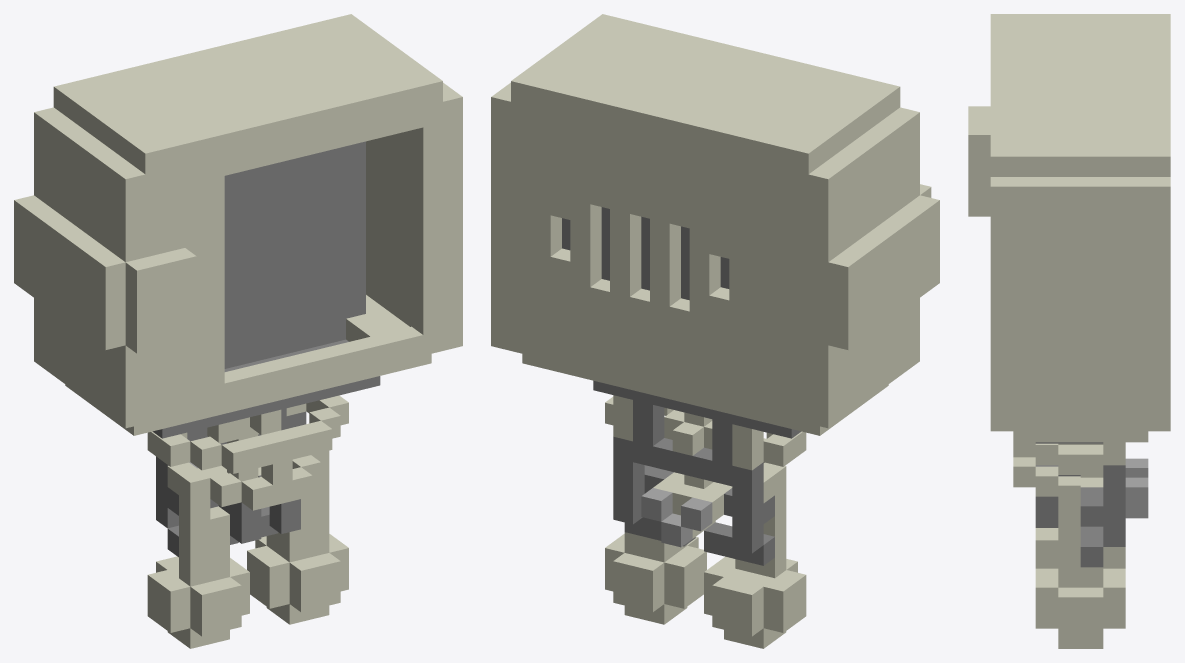
File: body_skeleton.glb
3 views of the same model, side by side, from view 1: azimuth 30°, elevation 25°; view 2: azimuth 150°, elevation 25°; view 3: azimuth 270°, elevation 25° (orthographic).
Visible parts, largest first — view 1: model_0; view 2: model_0; view 3: model_0.
Part boxes in pixels (x1,y1,x2,y2): model_0: (14, 14, 462, 648); model_0: (491, 14, 939, 648); model_0: (968, 14, 1170, 648).
Size of the model in its own units: 18 by 26 by 9.
